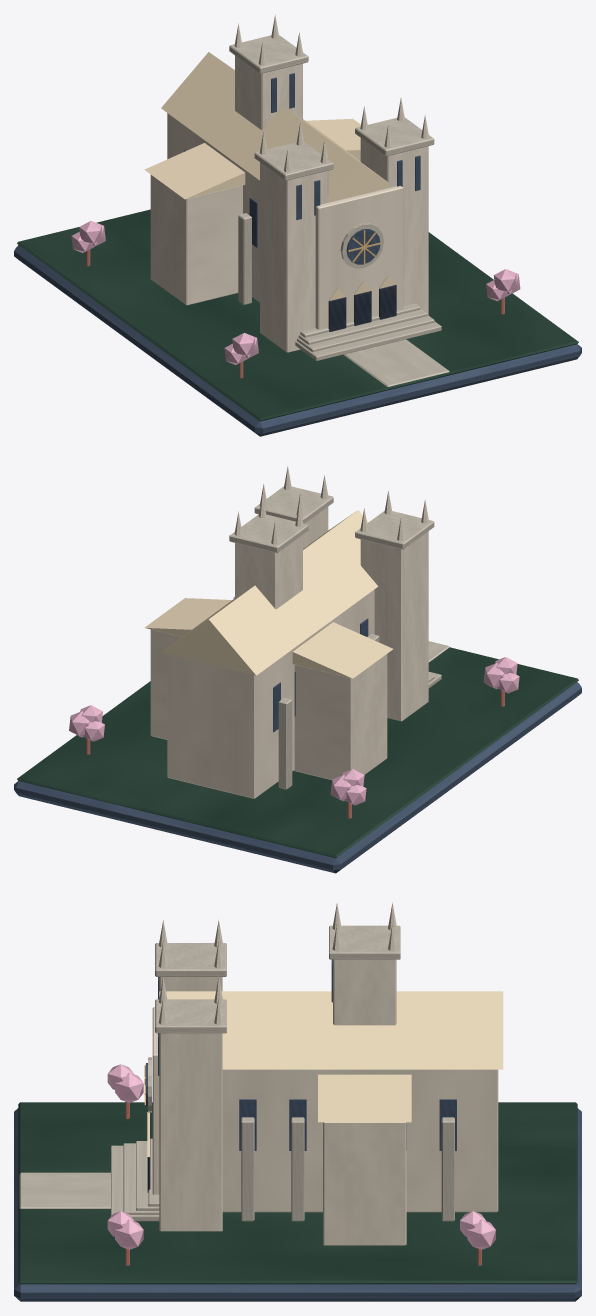
The model's file is national-cathedral-diorama.glb.
The picture shows the model from 3 angles, top to bottom: view 1: azimuth 30°, elevation 25°; view 2: azimuth 150°, elevation 25°; view 3: azimuth 270°, elevation 25°; orthographic projection. The views are drawn at different scales.
Visible parts, largest first — view 1: national-cathedral; view 2: national-cathedral; view 3: national-cathedral.
Part boxes in pixels (bbox=[...]): national-cathedral: bbox=[14, 15, 581, 436]; national-cathedral: bbox=[14, 466, 581, 873]; national-cathedral: bbox=[14, 902, 581, 1301].
Size of the model in its own units: 13 by 9.92 by 17.
Materials: 1 (1 with a texture image).
